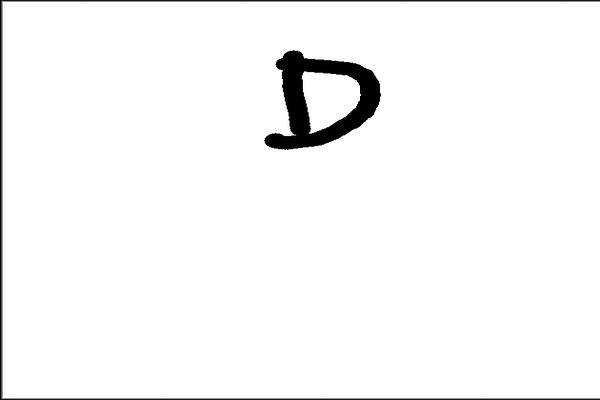D: (258, 45, 385, 156)
